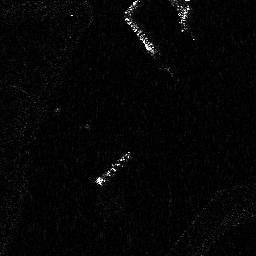ship: (123, 15, 162, 54), (93, 149, 131, 185)
